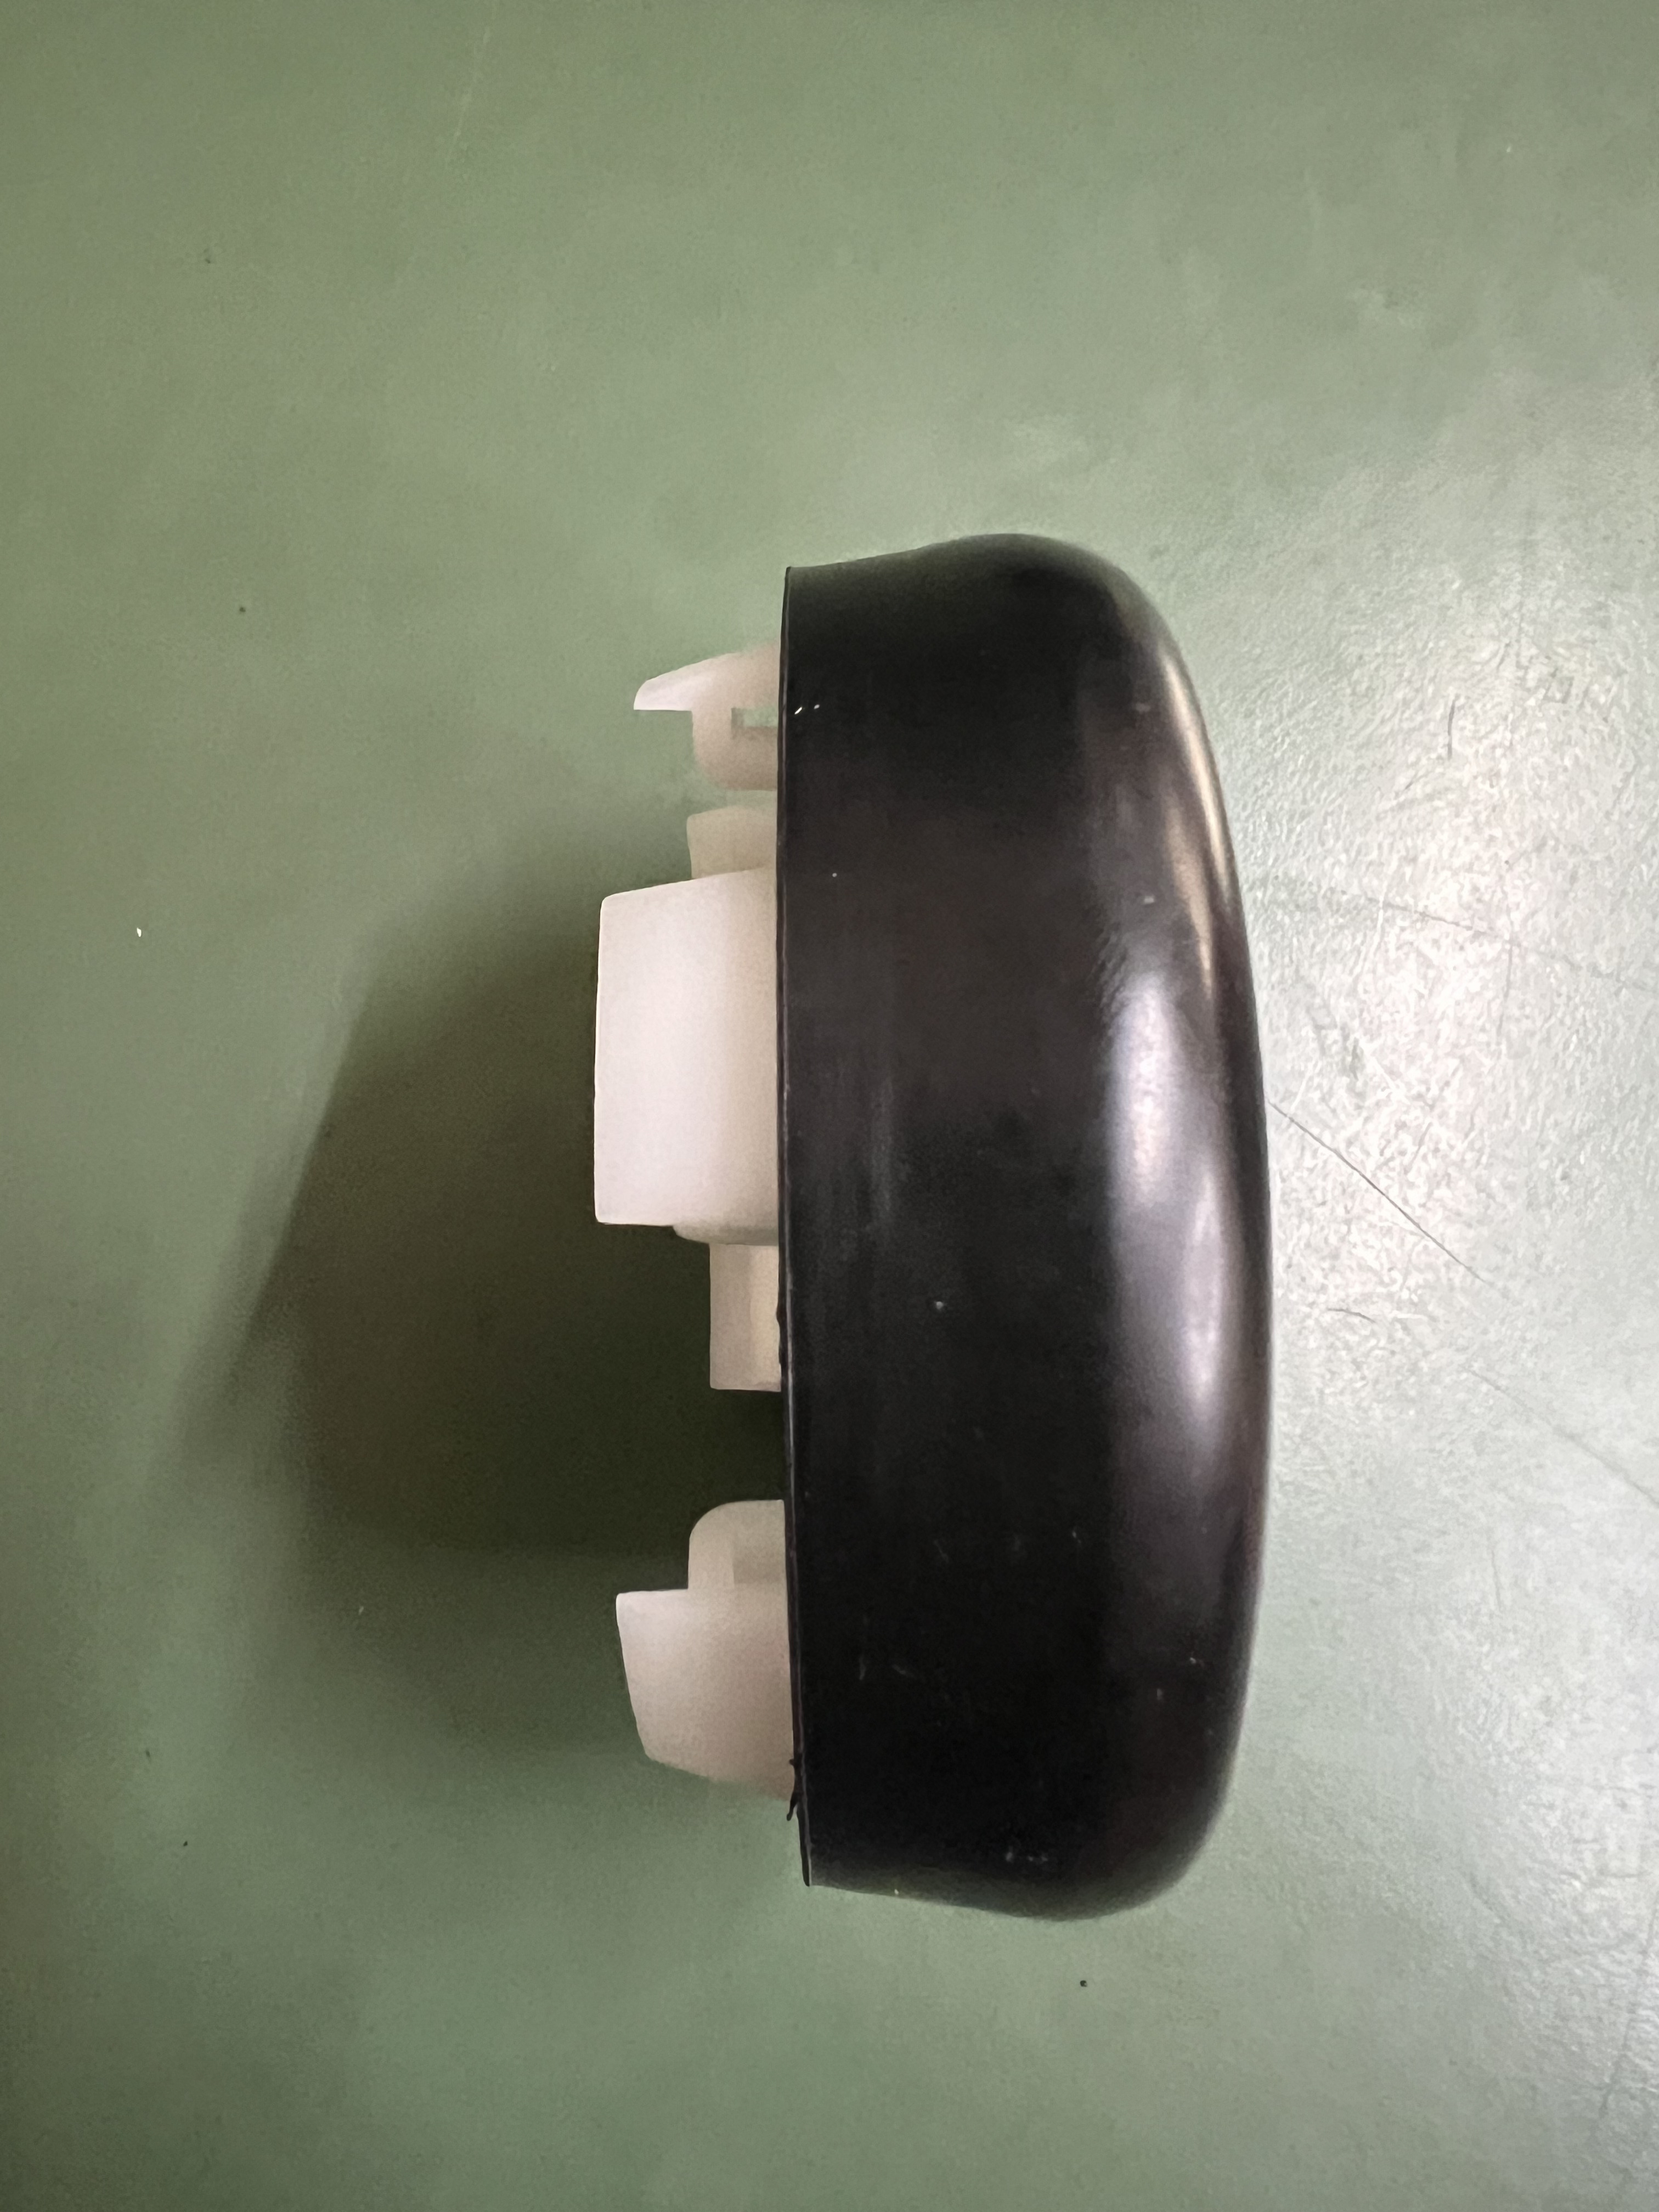lever: (596, 526, 1349, 1942)
